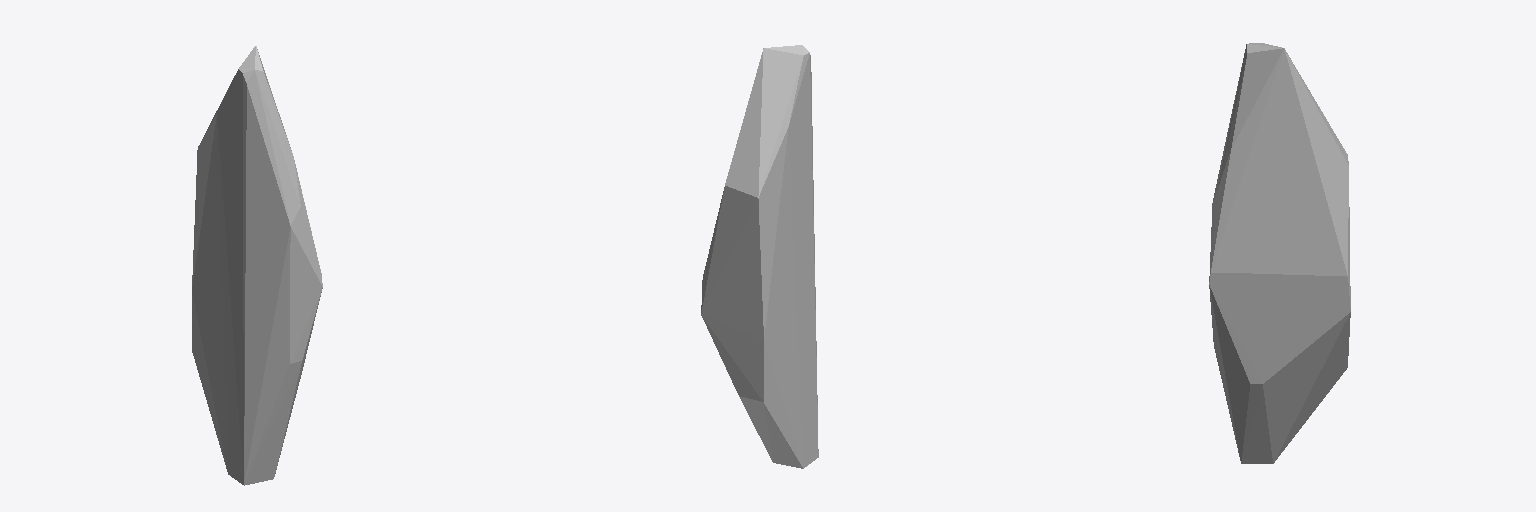
Rendered from raw_model_collision_18.obj.
The picture shows the model from 3 angles: view 1: azimuth 30°, elevation 25°; view 2: azimuth 150°, elevation 25°; view 3: azimuth 270°, elevation 25°; orthographic projection.
Bounding box in the file's own units: 0.1419 × 0.8962 × 0.2753.